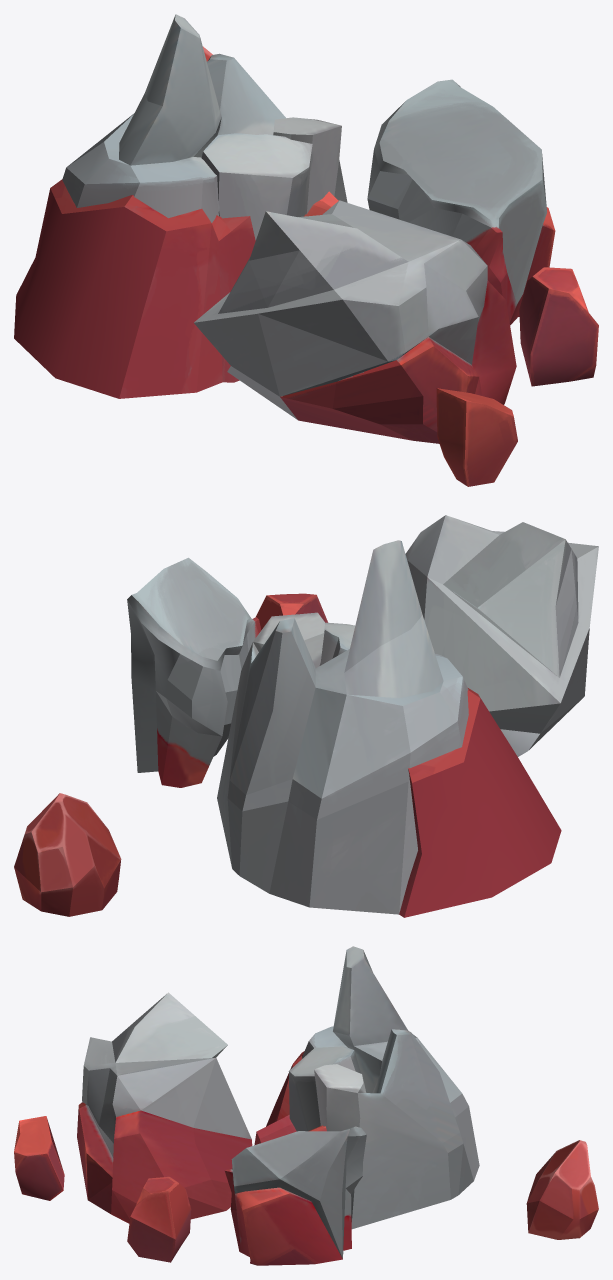
File: SM_Luna_Landing_Rock_3.fbx
The picture shows the model from 3 angles, top to bottom: view 1: azimuth 30°, elevation 25°; view 2: azimuth 150°, elevation 25°; view 3: azimuth 270°, elevation 25°; orthographic projection. The views are drawn at different scales.
Parts seen in each view (by area): view 1: SM_Luna_Landing_Rock_3; view 2: SM_Luna_Landing_Rock_3; view 3: SM_Luna_Landing_Rock_3.
Boxes of the visible parts, <box> form: SM_Luna_Landing_Rock_3: <box>14,14,598,486</box>; SM_Luna_Landing_Rock_3: <box>14,515,598,917</box>; SM_Luna_Landing_Rock_3: <box>14,946,598,1265</box>.
Bounding box in the file's own units: 3199 × 2159 × 5156.
